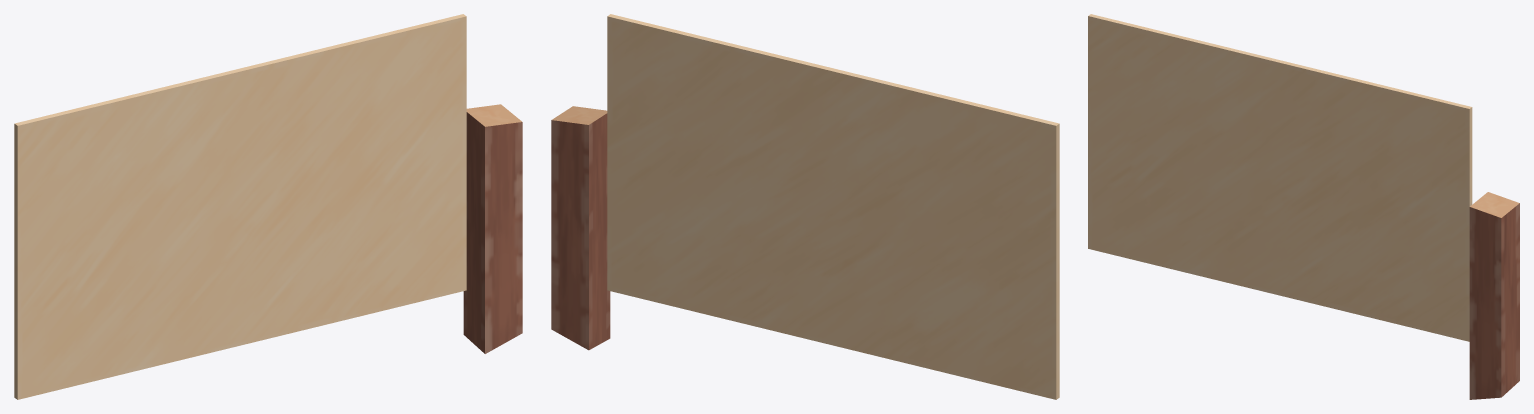
File: loom_s00.fbx
The picture shows the model from 3 angles, left to right: view 1: azimuth 30°, elevation 25°; view 2: azimuth 150°, elevation 25°; view 3: azimuth 330°, elevation 25°; orthographic projection. The views are drawn at different scales.
Parts seen in each view (by area): view 1: loom_s00; view 2: loom_s00; view 3: loom_s00.
Part boxes in pixels (box(x1,y1,x2,y2)): loom_s00: box(14, 14, 522, 399); loom_s00: box(551, 14, 1059, 399); loom_s00: box(1088, 14, 1519, 399).
Size of the model in its own units: 5.3 by 3.41 by 0.4.
